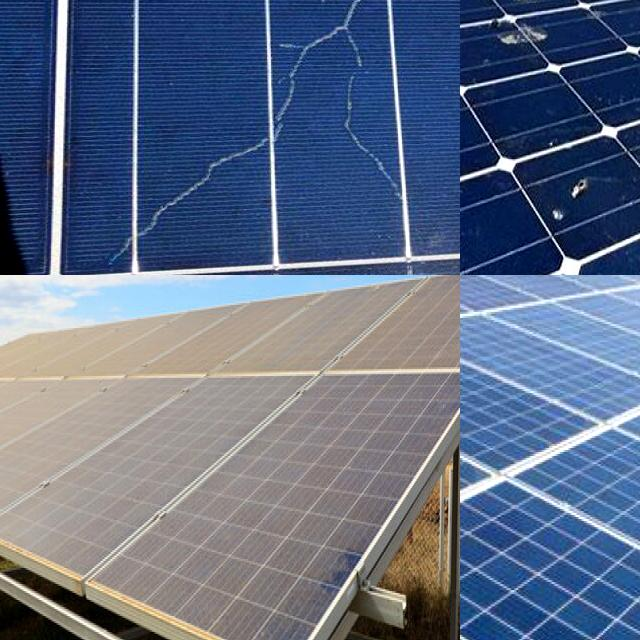bird: (483, 18, 559, 59), (542, 170, 604, 220), (497, 0, 556, 15)
crack: (510, 333, 640, 640), (460, 324, 626, 560), (460, 293, 632, 485), (460, 277, 640, 448), (460, 480, 640, 640), (460, 314, 621, 480), (460, 516, 640, 640)
dust: (181, 486, 317, 622), (76, 391, 160, 578), (312, 376, 418, 472), (136, 318, 306, 370), (309, 295, 460, 353), (0, 390, 61, 507)
shadow: (100, 0, 406, 266)
